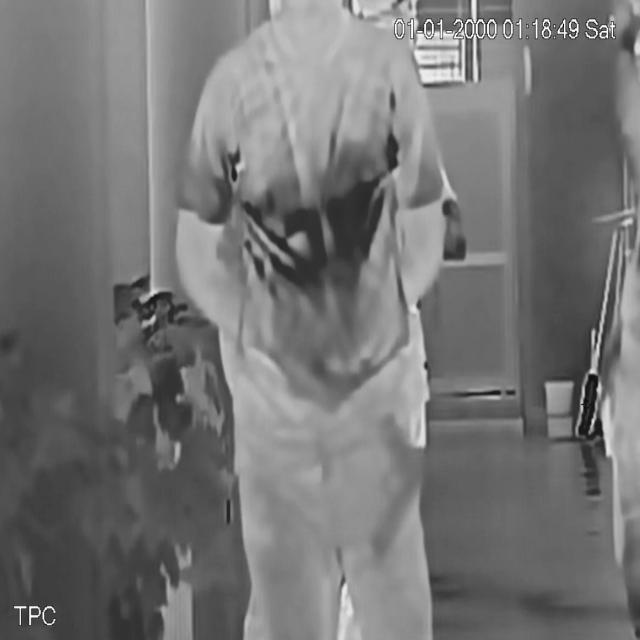Weapon: (348, 400, 440, 561)
